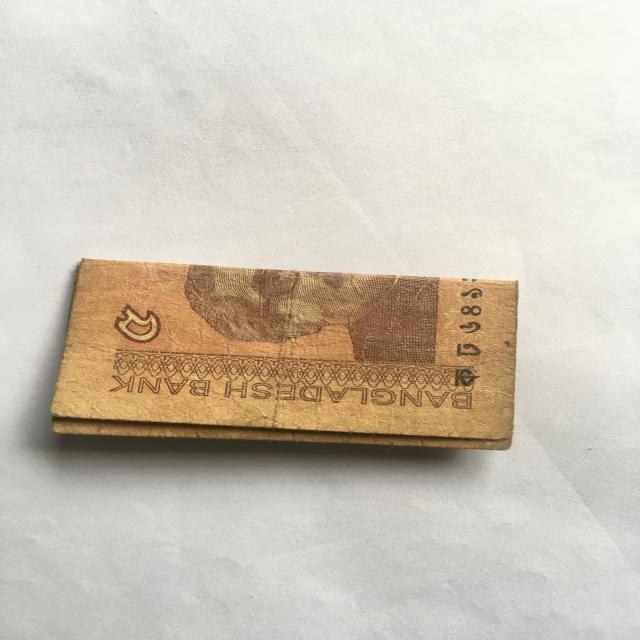Taka: (44, 240, 532, 462)
